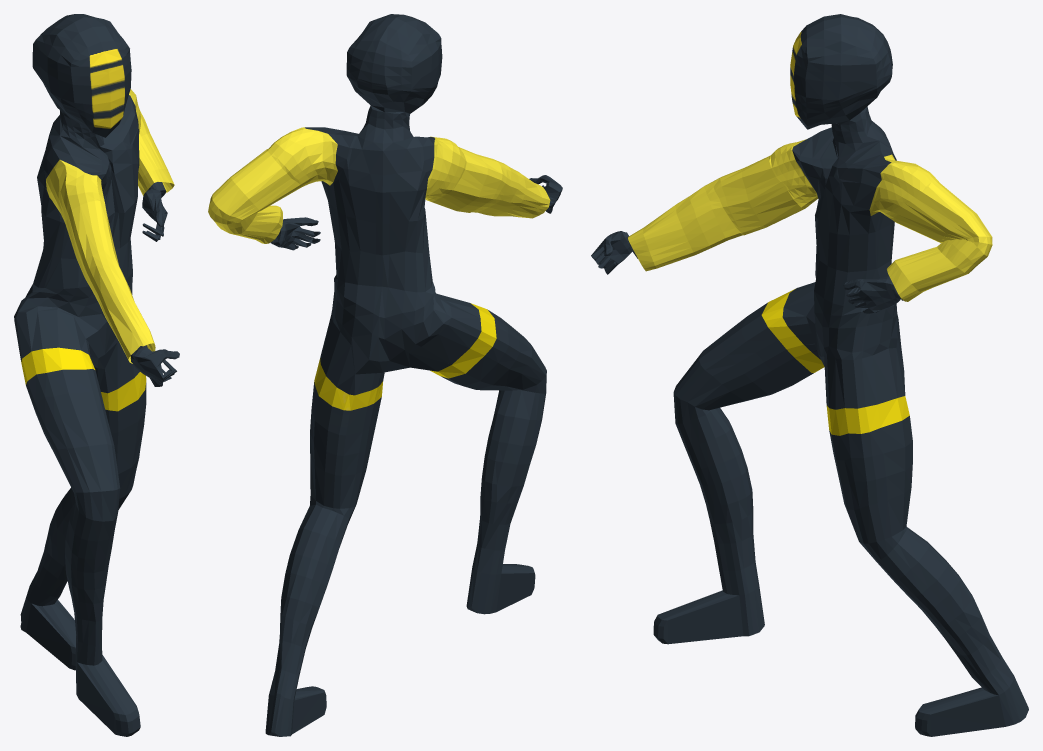
Rendered from Sentry_WB_000007.obj.
The picture shows the model from 3 angles, left to right: view 1: azimuth 30°, elevation 25°; view 2: azimuth 150°, elevation 25°; view 3: azimuth 270°, elevation 25°; orthographic projection. The views are drawn at different scales.
Parts seen in each view (by area): view 1: Cube; view 2: Cube; view 3: Cube.
Part boxes in pixels (x1,y1,x2,y2): Cube: (14,14,179,736); Cube: (208,14,562,736); Cube: (591,14,1028,736).
Size of the model in its own units: 1.19 by 3.78 by 2.16.
